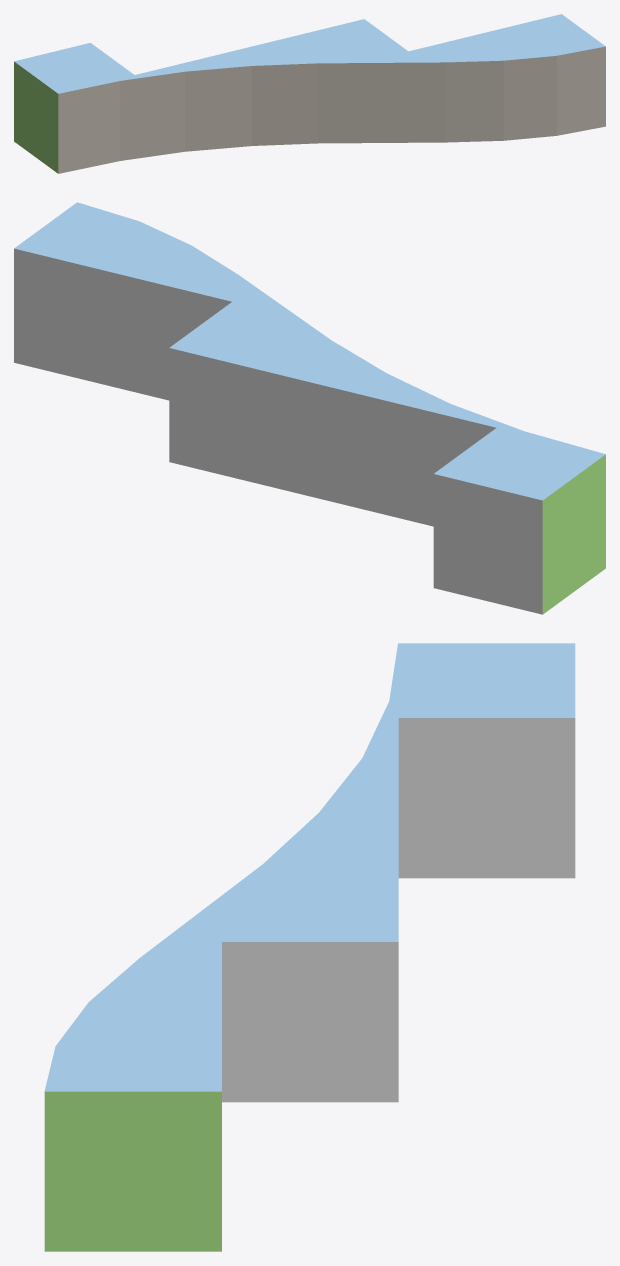
File: Wall_Esse_4x6_Mid.glb
The picture shows the model from 3 angles, top to bottom: view 1: azimuth 30°, elevation 25°; view 2: azimuth 150°, elevation 25°; view 3: azimuth 270°, elevation 25°; orthographic projection. The views are drawn at different scales.
Parts seen in each view (by area): view 1: Wall_Esse_4x6_Mid; view 2: Wall_Esse_4x6_Mid; view 3: Wall_Esse_4x6_Mid.
Part boxes in pixels (x1,y1,x2,y2): Wall_Esse_4x6_Mid: (14, 14, 605, 173); Wall_Esse_4x6_Mid: (14, 202, 605, 614); Wall_Esse_4x6_Mid: (44, 643, 575, 1251).
Bounding box in the file's own units: 600 × 100 × 300.
